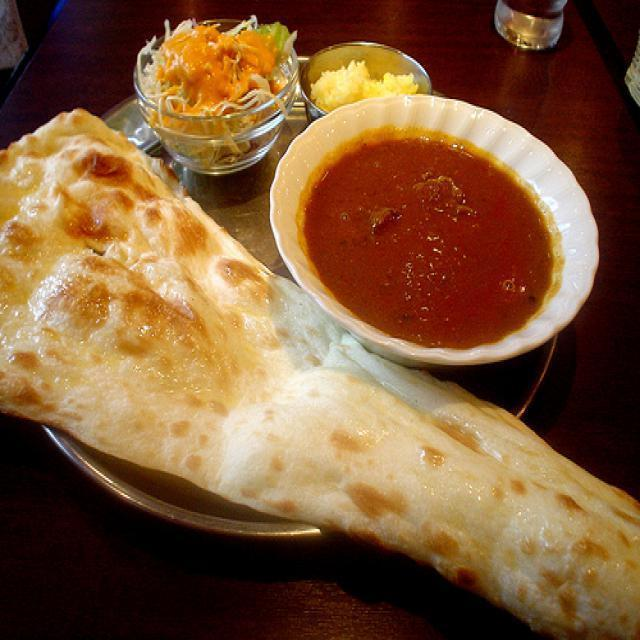beef-curry: (264, 96, 602, 370)
